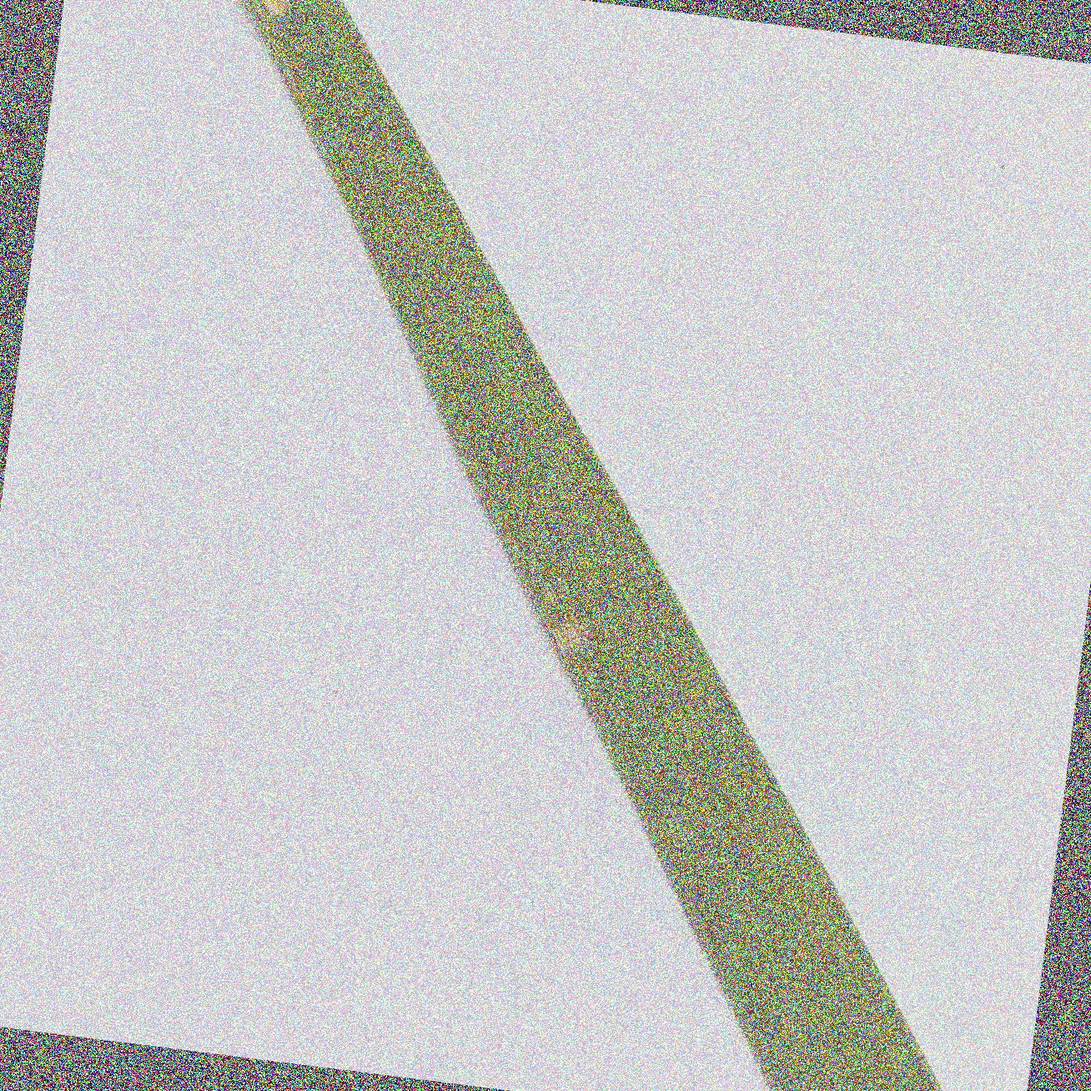Brown_Spot: (533, 580, 609, 668)
